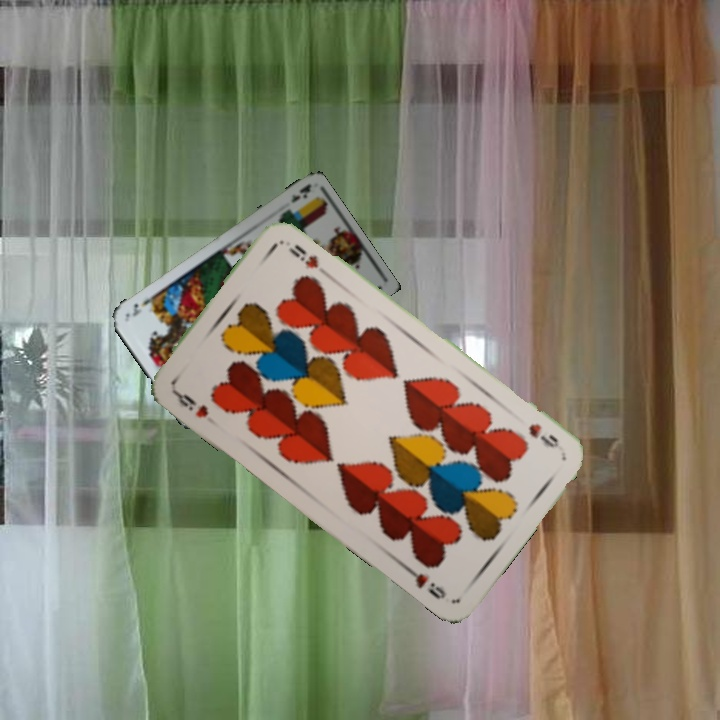EK: (286, 180, 313, 205)
H9: (170, 386, 211, 421), (524, 419, 562, 451)
